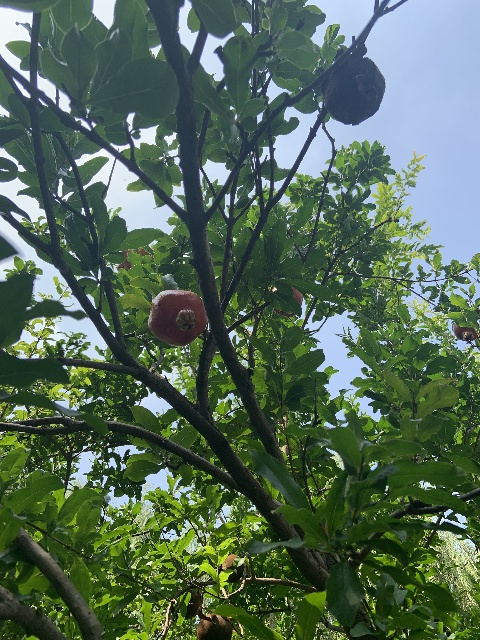ripe: (147, 289, 208, 346), (272, 286, 302, 317), (452, 322, 477, 341)
